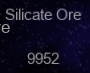Silicate: (5, 7, 81, 65)
